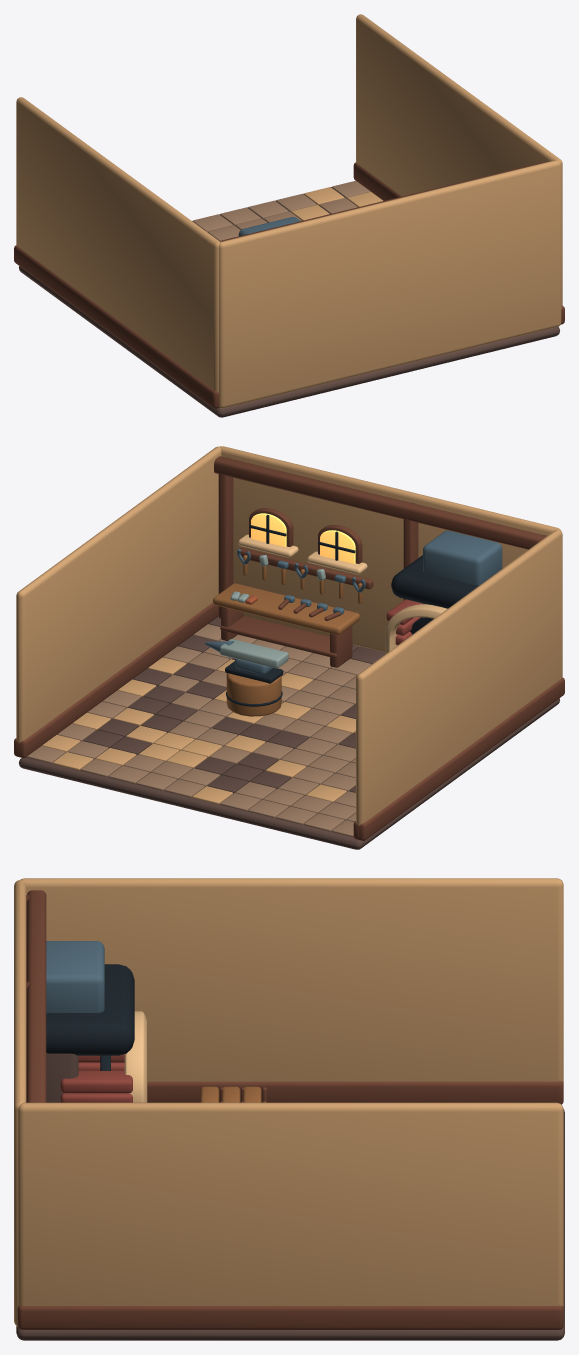
File: room_smithy.glb
The picture shows the model from 3 angles, top to bottom: view 1: azimuth 30°, elevation 25°; view 2: azimuth 150°, elevation 25°; view 3: azimuth 270°, elevation 25°; orthographic projection. The views are drawn at different scales.
Parts seen in each view (by area): view 1: Lime plaster rear Room.001, Lime plaster side Room.002, Lime plaster side Room.003, Workshop Floor.001, Workshop pavers Floor.001, Oak side skirt Room.002, Oak side skirt Room.003, Workshop wall header.001; view 2: Workshop pavers Floor.001, Lime plaster side Room.002, Lime plaster side Room.003, Lime plaster rear Room.001, Stone forge and iron hood.001, Workshop wall header.001, Workshop Floor.001, Forged anvil and stump.001, Oak side skirt Room.002, Oak side skirt Room.003, Workbench oak slab.001, Workbench lower shelf.001 (+8 smaller); view 3: Lime plaster side Room.003, Lime plaster side Room.002, Stone forge and iron hood.001, Oak side skirt Room.003, Oak side skirt Room.002, Workshop Floor.001, Workshop wall header.001, Lime plaster rear Room.001.
Boxes of the visible parts, x1=… form: Lime plaster rear Room.001: x1=219, y1=160, x2=561, y2=408; Lime plaster side Room.002: x1=16, y1=97, x2=219, y2=392; Lime plaster side Room.003: x1=356, y1=14, x2=562, y2=308; Workshop Floor.001: x1=19, y1=187, x2=559, y2=417; Workshop pavers Floor.001: x1=192, y1=180, x2=382, y2=240; Oak side skirt Room.002: x1=14, y1=245, x2=219, y2=408; Oak side skirt Room.003: x1=353, y1=162, x2=564, y2=324; Workshop wall header.001: x1=219, y1=161, x2=547, y2=241; Workshop pavers Floor.001: x1=26, y1=616, x2=385, y2=837; Lime plaster side Room.002: x1=356, y1=529, x2=562, y2=836; Lime plaster side Room.003: x1=16, y1=446, x2=221, y2=743; Lime plaster rear Room.001: x1=220, y1=446, x2=560, y2=652; Stone forge and iron hood.001: x1=385, y1=530, x2=502, y2=654; Workshop wall header.001: x1=214, y1=456, x2=546, y2=549; Workshop Floor.001: x1=19, y1=646, x2=559, y2=849; Forged anvil and stump.001: x1=205, y1=639, x2=288, y2=716; Oak side skirt Room.002: x1=353, y1=677, x2=564, y2=840; Oak side skirt Room.003: x1=14, y1=602, x2=218, y2=757; Workbench oak slab.001: x1=213, y1=583, x2=359, y2=634; Workbench lower shelf.001: x1=220, y1=616, x2=352, y2=658; Lime plaster side Room.003: x1=18, y1=1102, x2=563, y2=1306; Lime plaster side Room.002: x1=20, y1=878, x2=563, y2=1081; Stone forge and iron hood.001: x1=46, y1=941, x2=147, y2=1102; Oak side skirt Room.003: x1=17, y1=1305, x2=563, y2=1329; Oak side skirt Room.002: x1=147, y1=1081, x2=563, y2=1104; Workshop Floor.001: x1=16, y1=1109, x2=564, y2=1340; Workshop wall header.001: x1=27, y1=890, x2=46, y2=1102; Lime plaster rear Room.001: x1=14, y1=880, x2=26, y2=1326.
Bounding box in the file's own units: 8.83 × 4.23 × 8.84.
